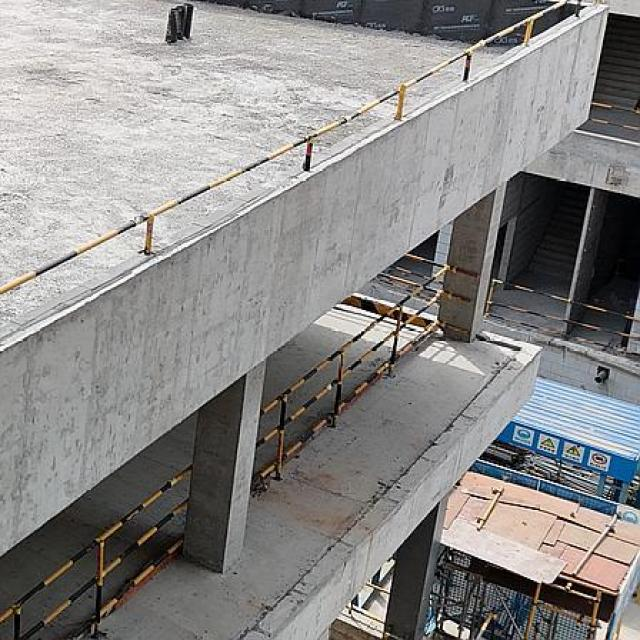edge_guardrail: (0, 0, 587, 303), (255, 251, 481, 483), (0, 463, 193, 640), (483, 277, 640, 359), (344, 580, 392, 624), (587, 99, 640, 132)
